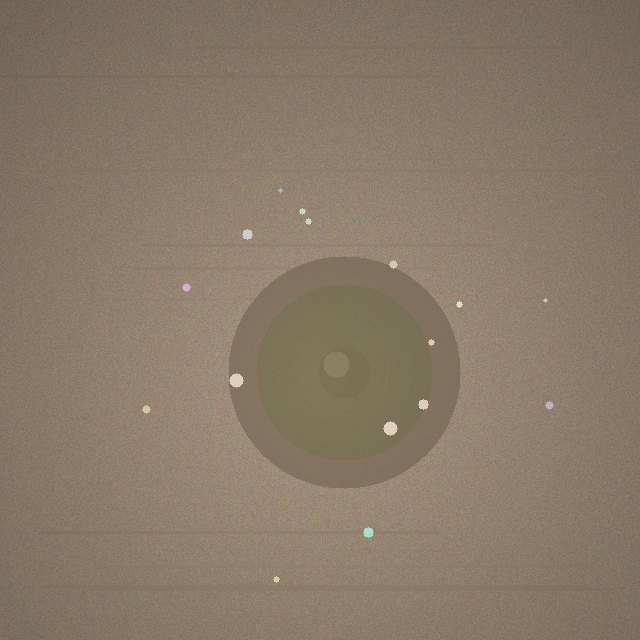overburn: (228, 256, 460, 488)
